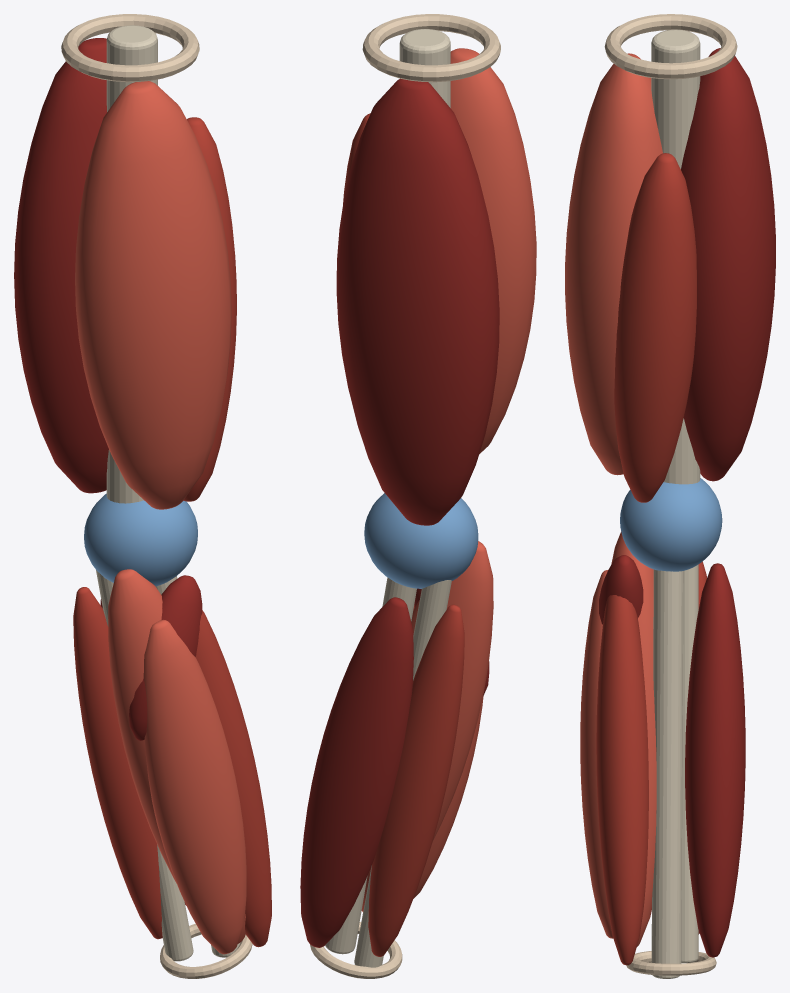
File: kaizen_arm_prototype.glb
3 views of the same model, side by side, from view 1: azimuth 30°, elevation 25°; view 2: azimuth 150°, elevation 25°; view 3: azimuth 270°, elevation 25° (orthographic). The views are drawn at different scales.
Parts seen in each view (by area): view 1: muscle_biceps_brachii, muscle_triceps_brachii, muscle_flexor_digitorum_superficialis, muscle_extensor_carpi_ulnaris, muscle_flexor_carpi_radialis, joint_elbow, muscle_brachioradialis, proximal_cut_tendon, muscle_brachialis, bone_humerus, muscle_pronator_teres, bone_ulna (+1 smaller); view 2: muscle_triceps_brachii, muscle_extensor_digitorum, muscle_extensor_carpi_ulnaris, muscle_biceps_brachii, joint_elbow, muscle_brachioradialis, proximal_cut_tendon, bone_ulna, bone_humerus, bone_radius, muscle_flexor_digitorum_superficialis, distal_cut_tendon; view 3: muscle_triceps_brachii, muscle_brachialis, muscle_biceps_brachii, muscle_extensor_digitorum, muscle_flexor_carpi_radialis, bone_radius, joint_elbow, bone_humerus, muscle_flexor_digitorum_superficialis, proximal_cut_tendon, muscle_brachioradialis, bone_ulna (+2 smaller).
Part boxes in pixels (<box>): muscle_biceps_brachii: <box>75,81,231,509</box>; muscle_triceps_brachii: <box>14,38,108,493</box>; muscle_flexor_digitorum_superficialis: <box>143,619,246,954</box>; muscle_extensor_carpi_ulnaris: <box>73,587,162,939</box>; muscle_flexor_carpi_radialis: <box>195,610,271,947</box>; joint_elbow: <box>84,493,197,586</box>; muscle_brachioradialis: <box>108,569,245,943</box>; proximal_cut_tendon: <box>61,14,199,82</box>; muscle_brachialis: <box>183,117,236,501</box>; bone_humerus: <box>106,25,157,503</box>; muscle_pronator_teres: <box>129,575,202,740</box>; bone_ulna: <box>96,570,193,961</box>; muscle_triceps_brachii: <box>336,78,499,525</box>; muscle_extensor_digitorum: <box>300,597,413,947</box>; muscle_extensor_carpi_ulnaris: <box>368,604,464,956</box>; muscle_biceps_brachii: <box>450,48,536,453</box>; joint_elbow: <box>364,493,478,588</box>; muscle_brachioradialis: <box>361,541,493,911</box>; proximal_cut_tendon: <box>362,14,500,82</box>; bone_ulna: <box>354,580,451,967</box>; bone_humerus: <box>399,29,450,107</box>; bone_radius: <box>325,577,416,954</box>; muscle_flexor_digitorum_superficialis: <box>413,696,483,898</box>; distal_cut_tendon: <box>310,922,402,978</box>; muscle_triceps_brachii: <box>681,48,775,481</box>; muscle_brachialis: <box>614,153,696,502</box>; muscle_biceps_brachii: <box>565,53,662,475</box>; muscle_extensor_digitorum: <box>685,563,745,957</box>; muscle_flexor_carpi_radialis: <box>596,595,648,965</box>; bone_radius: <box>651,569,683,978</box>; joint_elbow: <box>620,478,722,571</box>; bone_humerus: <box>651,29,700,484</box>; muscle_flexor_digitorum_superficialis: <box>580,570,613,938</box>; proximal_cut_tendon: <box>604,14,737,79</box>; muscle_brachioradialis: <box>611,531,656,946</box>; bone_ulna: <box>681,564,698,962</box>.
Size of the model in its own units: 0.9632 by 4.29 by 0.9052.
